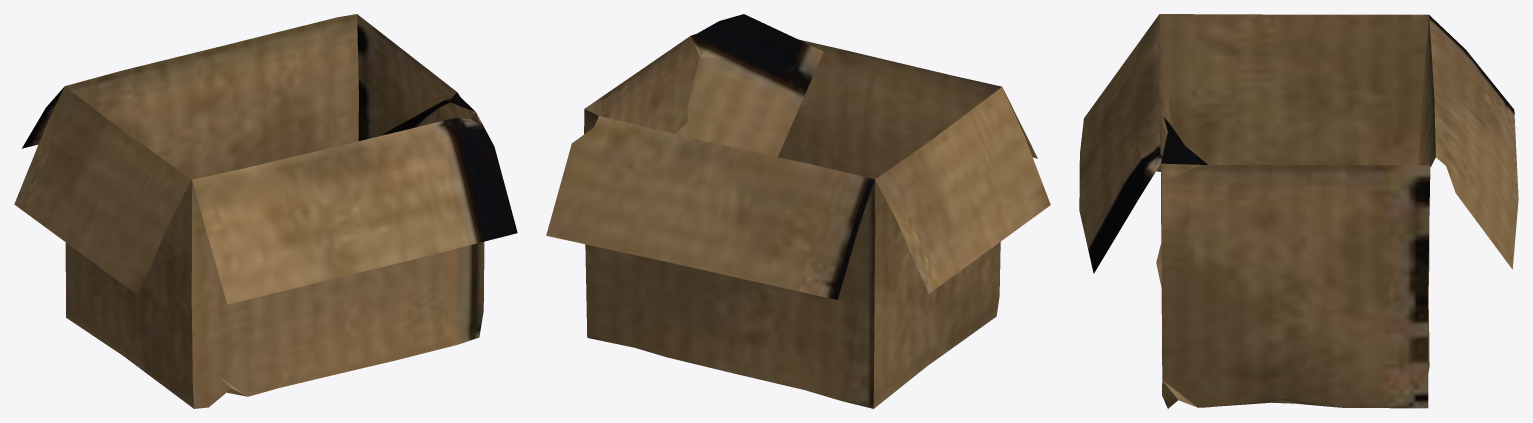
File: box_torn_flap_lod1_web.glb
3 views of the same model, side by side, from view 1: azimuth 30°, elevation 25°; view 2: azimuth 150°, elevation 25°; view 3: azimuth 270°, elevation 25° (orthographic). The views are drawn at different scales.
Visible parts, largest first — view 1: BoxTornFlap_Body; view 2: BoxTornFlap_Body; view 3: BoxTornFlap_Body.
Part boxes in pixels (box(x1,y1,x2,y2)): BoxTornFlap_Body: box(14, 14, 517, 408); BoxTornFlap_Body: box(546, 14, 1050, 408); BoxTornFlap_Body: box(1079, 14, 1518, 408).
Size of the model in its own units: 0.4792 by 0.3203 by 0.4884.
1 material, 1 textured.
